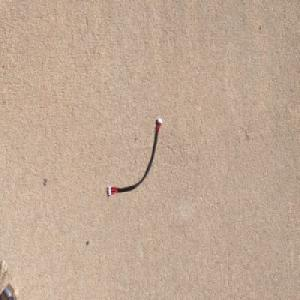Wire: (107, 116, 163, 197)
